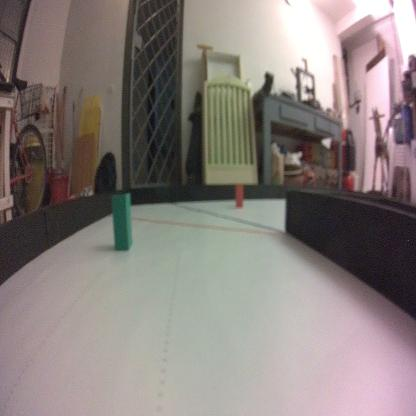green: (110, 186, 131, 252)
red: (234, 182, 245, 209)
